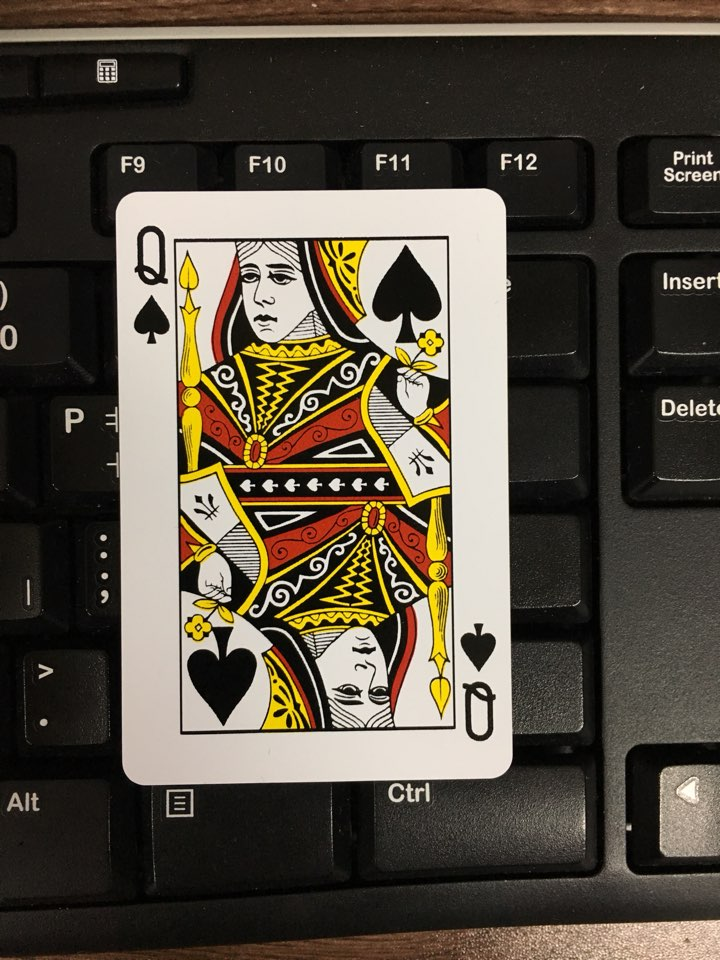queen: (73, 167, 554, 812)
